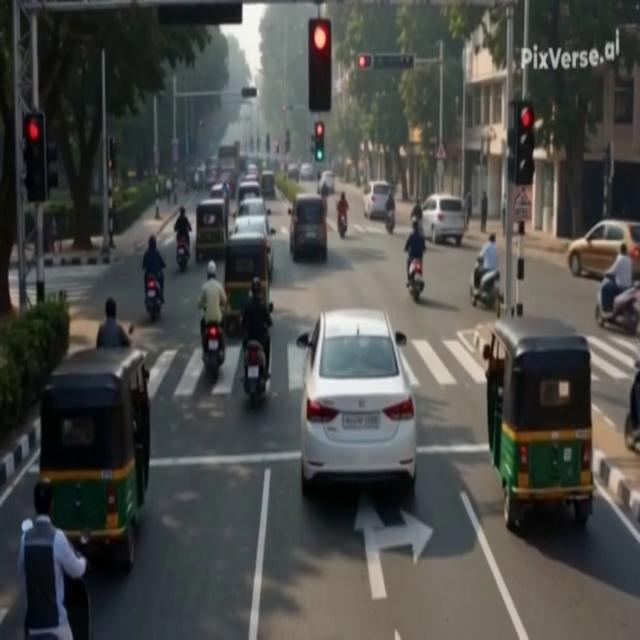car: (297, 309, 416, 495), (568, 219, 639, 279), (232, 215, 275, 278), (288, 193, 327, 262), (422, 194, 464, 246), (364, 181, 390, 220), (235, 198, 270, 217), (210, 184, 229, 216), (215, 170, 235, 197), (237, 181, 261, 203), (260, 171, 276, 199), (318, 171, 334, 194), (299, 164, 315, 181), (287, 164, 300, 181), (247, 164, 259, 175)
scooty: (595, 274, 639, 335), (64, 576, 91, 639), (243, 341, 268, 406), (624, 360, 639, 452), (203, 324, 224, 383), (470, 270, 501, 309), (145, 275, 162, 321), (407, 259, 424, 302), (176, 238, 189, 272), (385, 210, 395, 234), (412, 216, 423, 236), (338, 215, 347, 238)
traffic signal: (508, 101, 535, 185), (308, 18, 332, 112), (23, 112, 47, 202), (372, 54, 414, 70), (315, 122, 325, 162), (604, 142, 613, 181), (108, 138, 116, 171), (357, 54, 372, 70), (241, 88, 257, 98), (285, 130, 290, 153), (266, 134, 270, 153), (275, 141, 279, 154), (199, 120, 203, 127)
truck: (218, 142, 239, 197), (218, 143, 239, 174)
